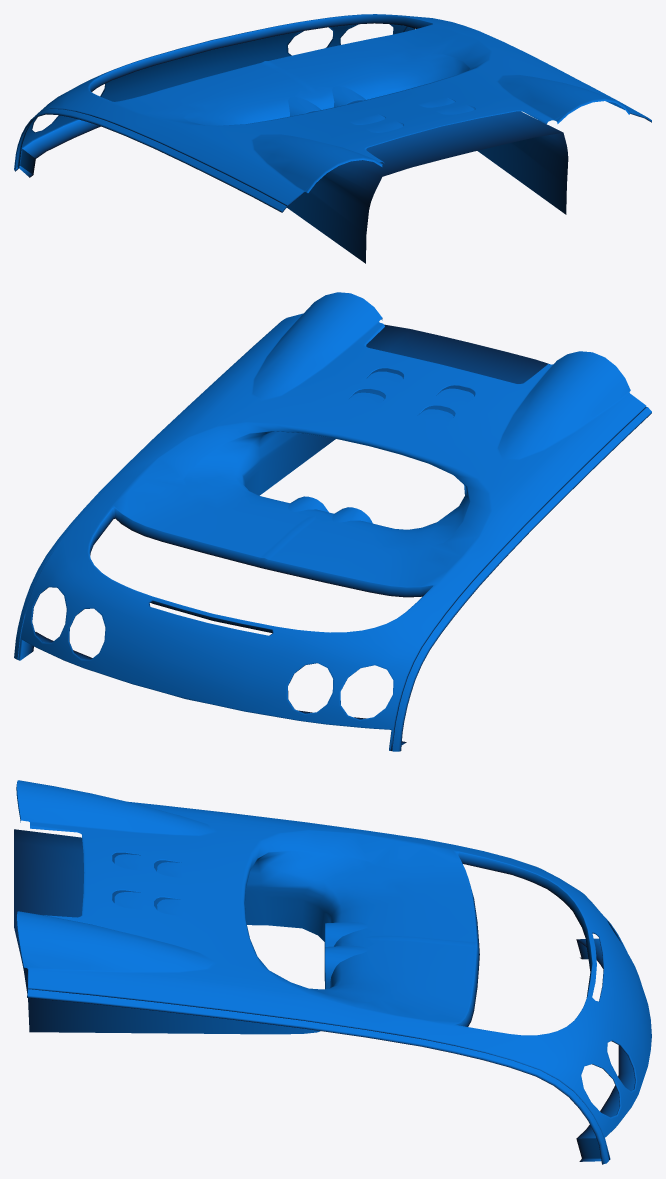
The model's file is Veyron_Roof02_Duco.fbx.
3 views of the same model, one above another, from view 1: azimuth 30°, elevation 25°; view 2: azimuth 150°, elevation 25°; view 3: azimuth 270°, elevation 25° (orthographic). The views are drawn at different scales.
Visible parts, largest first — view 1: Veyron_Roof02_Duco; view 2: Veyron_Roof02_Duco; view 3: Veyron_Roof02_Duco.
Boxes of the visible parts, <box> form: Veyron_Roof02_Duco: <box>14,14,651,263</box>; Veyron_Roof02_Duco: <box>14,292,651,751</box>; Veyron_Roof02_Duco: <box>14,780,651,1164</box>.
Bounding box in the file's own units: 132 × 61.36 × 170.
